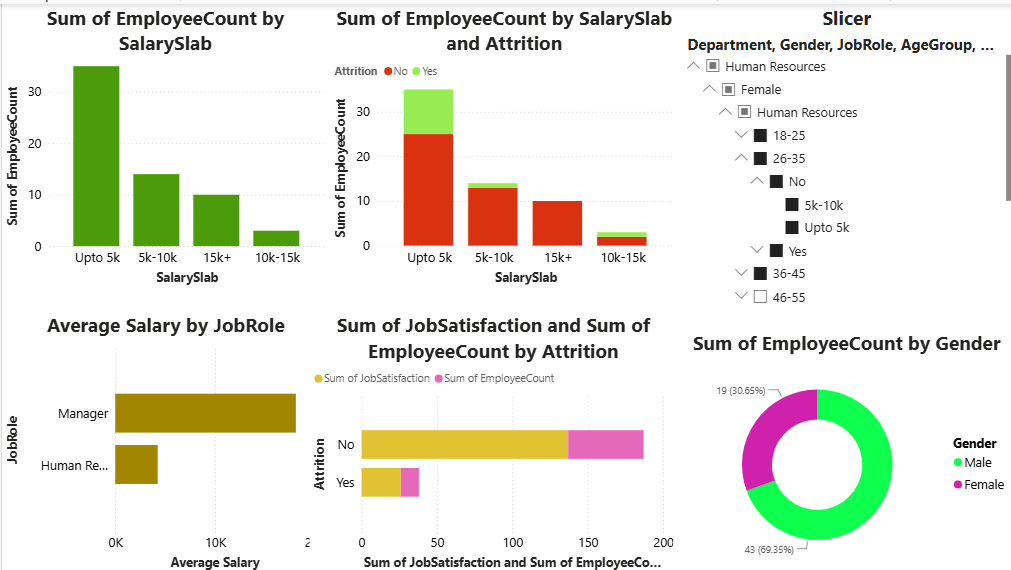

The page's visual inventory and layout, read from the dashboard file:
{"tool":"powerbi","page":{"name":"HR Analytics Dashboard2","canvas":[1280,720],"ordinal":1},"visuals":[{"type":"clusteredColumnChart","fields":{"Category":["HR_Analytics.SalarySlab"],"Y":["Sum(HR_Analytics.EmployeeCount)"]},"box":[0,0,412,359.1],"z":0},{"type":"barChart","fields":{"Category":["HR_Analytics.JobRole"],"Y":["HR_Analytics.Average Salary"]},"box":[0,387.8,412.9,331.2],"z":1000},{"type":"columnChart","fields":{"Category":["HR_Analytics.SalarySlab"],"Series":["HR_Analytics.Attrition"],"Y":["Sum(HR_Analytics.EmployeeCount)"]},"box":[412.9,0,438.1,358.4],"z":2000},{"type":"barChart","fields":{"Y":["Sum(HR_Analytics.JobSatisfaction)","Sum(HR_Analytics.EmployeeCount)"],"Category":["HR_Analytics.Attrition"]},"box":[387.8,387.8,463.2,331.2],"z":3000},{"type":"slicer","title":"Slicer","fields":{"Values":["HR_Analytics.Department","HR_Analytics.Gender","HR_Analytics.JobRole","HR_Analytics.AgeGroup","HR_Analytics.Attrition","HR_Analytics.SalarySlab"]},"box":[851,0,427.6,387.8],"z":4000},{"type":"donutChart","fields":{"Category":["HR_Analytics.Gender"],"Y":["Sum(HR_Analytics.EmployeeCount)"]},"box":[851,410.8,427.6,308.1],"z":5000}]}

Visuals, with their boxes in screenshot pixels (x1, y1, x2, y2), scaled from the page's 1280x720 canvas onto the 1011x570 screenshot:
clusteredColumnChart - HR_Analytics.SalarySlab x Sum(HR_Analytics.EmployeeCount): box(0, 0, 325, 284)
barChart - HR_Analytics.JobRole x HR_Analytics.Average Salary: box(0, 307, 326, 569)
columnChart - HR_Analytics.SalarySlab x HR_Analytics.Attrition: box(326, 0, 672, 284)
barChart - Sum(HR_Analytics.JobSatisfaction) x Sum(HR_Analytics.EmployeeCount): box(306, 307, 672, 569)
"Slicer" slicer: box(672, 0, 1010, 307)
donutChart - HR_Analytics.Gender x Sum(HR_Analytics.EmployeeCount): box(672, 325, 1010, 569)
